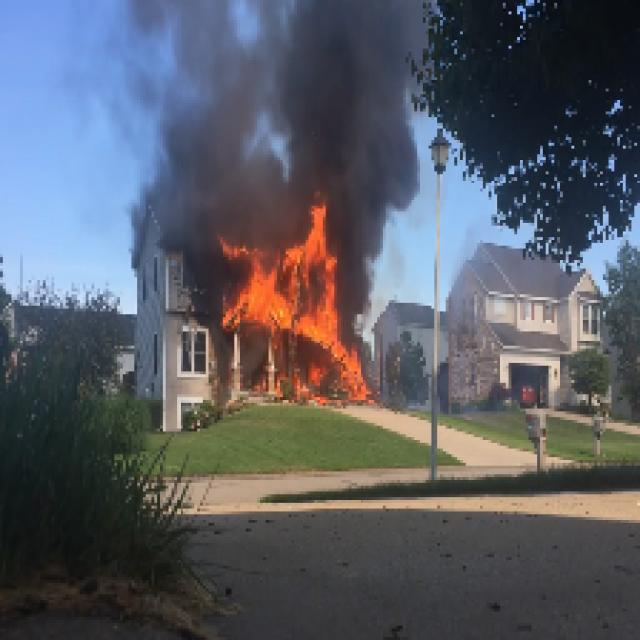Fire: (220, 240, 292, 326), (297, 200, 334, 334), (314, 343, 363, 400)
Smoke: (91, 2, 280, 218), (278, 2, 426, 188), (342, 194, 418, 337)
